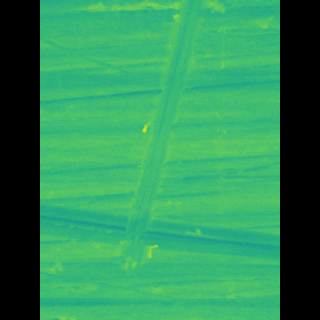Loch: (126, 0, 203, 273), (69, 198, 251, 264), (87, 0, 227, 21)
